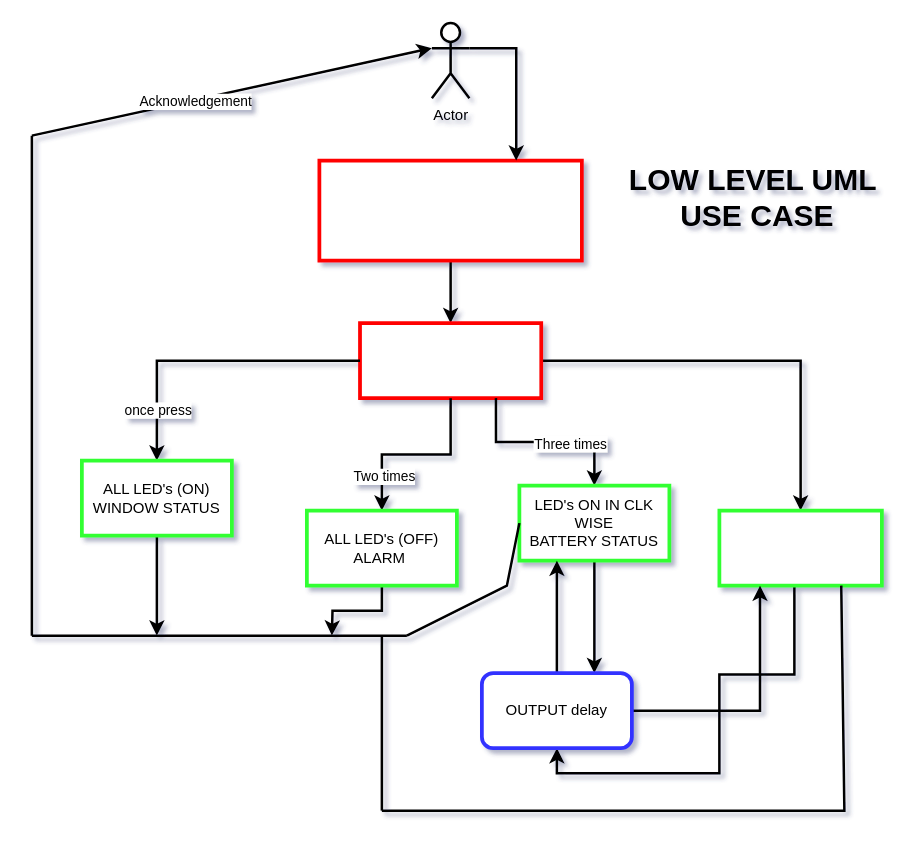
This 914x841 diagram has some shape labels left out. Here are the shapes that lost their labels. From the top down, the centre of each, then its label:
At point 450,210: "INPUT FROM THE USER i.e blue button press".
At point 450,360: "BUTTON PRESS COUNT".
At point 800,547: "LED's ON IN ANTI-CLK WISE DOOR STATUS".
